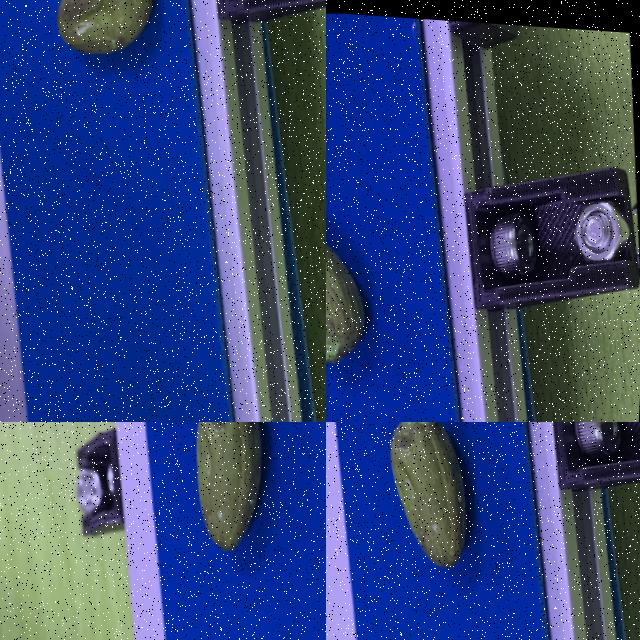Fine_cocoabeans: (148, 422, 325, 639), (357, 422, 520, 601), (23, 0, 210, 155), (326, 164, 408, 420)
